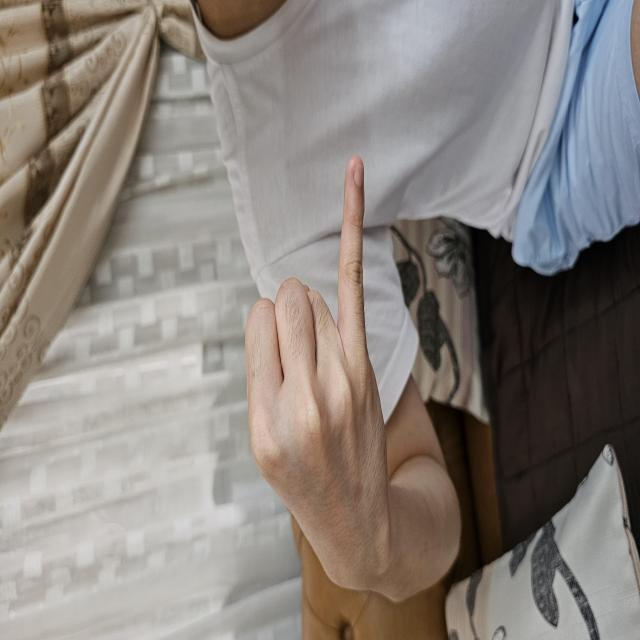J: (220, 138, 420, 561)
